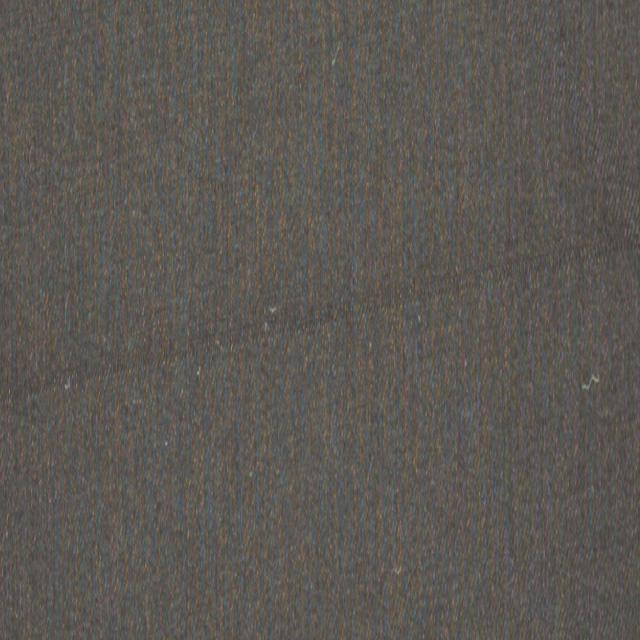Line: (2, 227, 640, 413)
